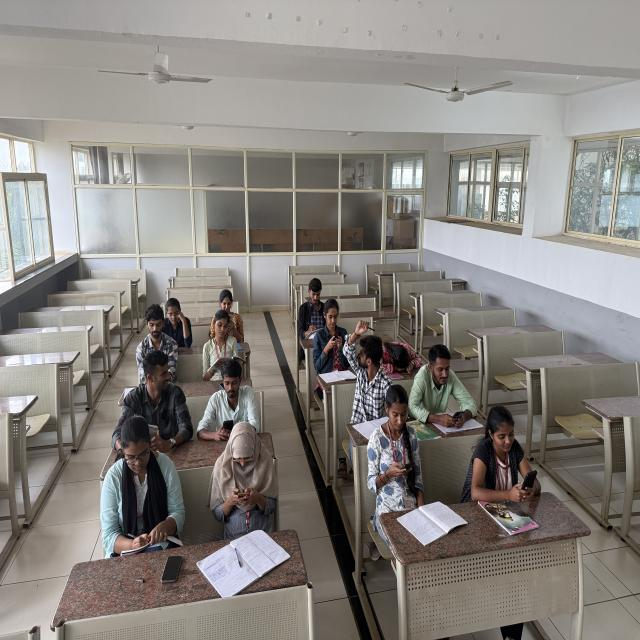Reading: (197, 305, 247, 378)
Sleeping: (382, 321, 426, 377)
Using Phone: (206, 418, 295, 524), (358, 385, 430, 504), (116, 346, 190, 448), (472, 408, 544, 511), (408, 336, 484, 429), (193, 372, 272, 446), (318, 295, 349, 365)
Writing: (102, 414, 188, 558), (288, 274, 332, 342)
